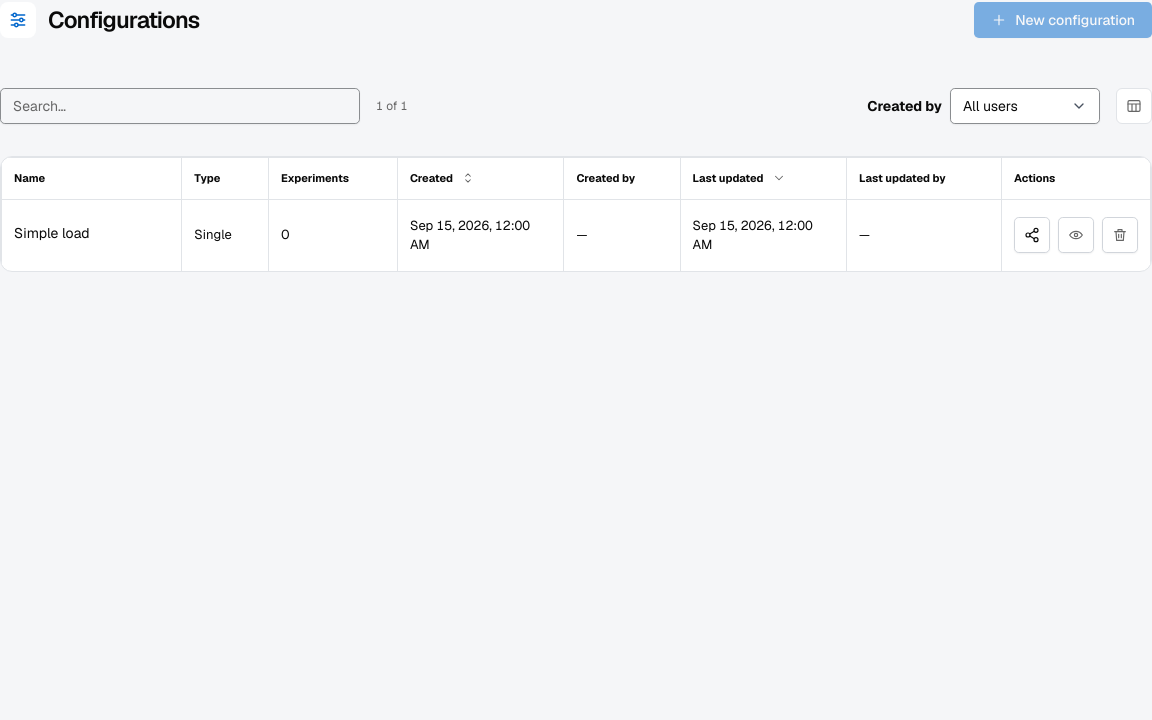
Test: experiment configuration actions › keeps only eye and trash in the list and launches runs from detail
Check: the button named "Delete Simple load" is empty, box [1102,217,1138,253]
Check: the button "Run" is not shown
Click the button named "View Simple load details". click: coordinates (1076, 235)
box: [1058,217,1094,253]
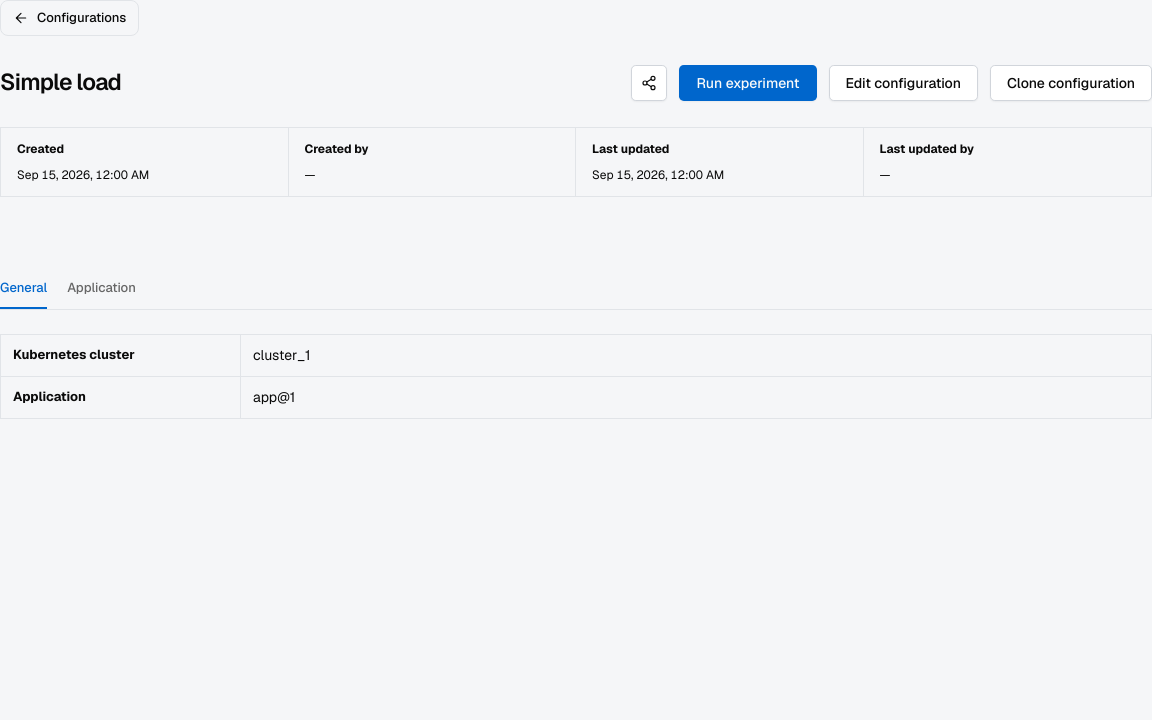
Check: the button "Run experiment" is shown
Click the button "Run experiment". click: coordinates (748, 83)
box: [679,65,817,101]
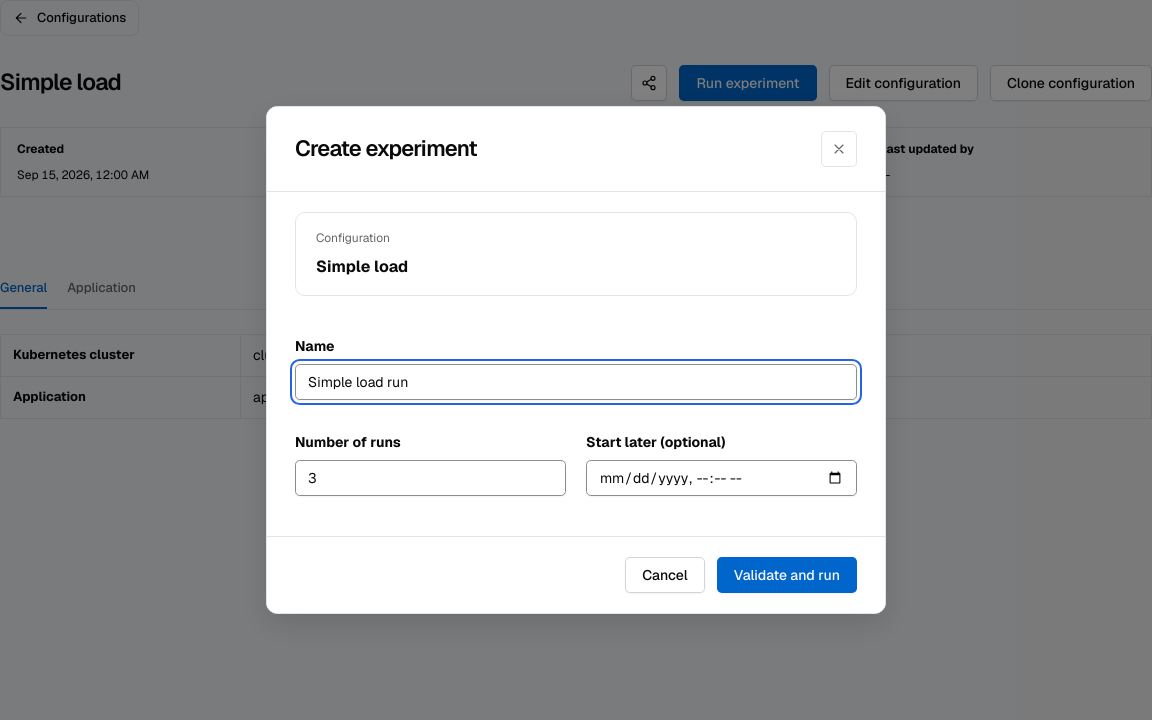
Check: the dialog is shown, box [266,106,886,614]
Check: the number field labelled "Number of runs" is shown, box [295,460,566,496]
